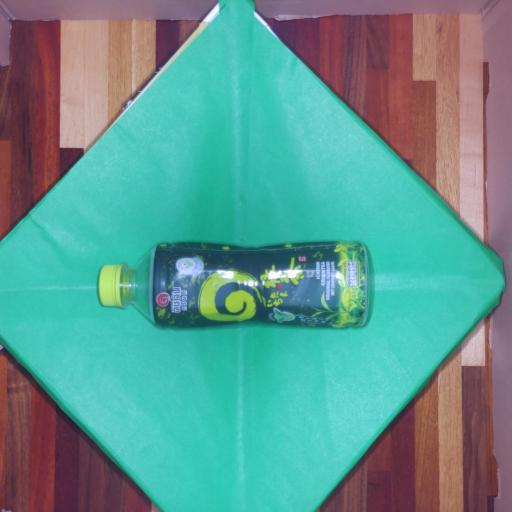bottle: (86, 223, 391, 350)
